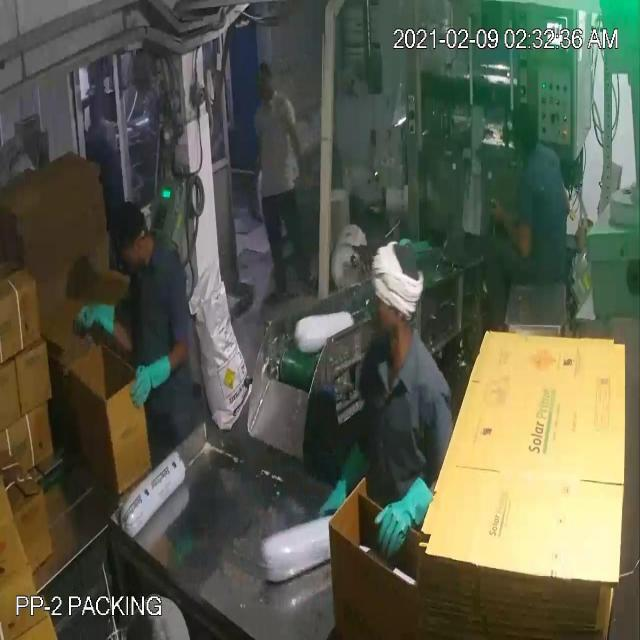Gloves: (30, 66, 404, 518)
